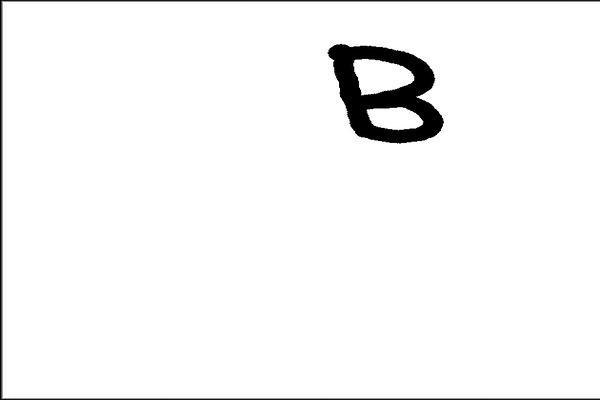B: (317, 35, 455, 150)
